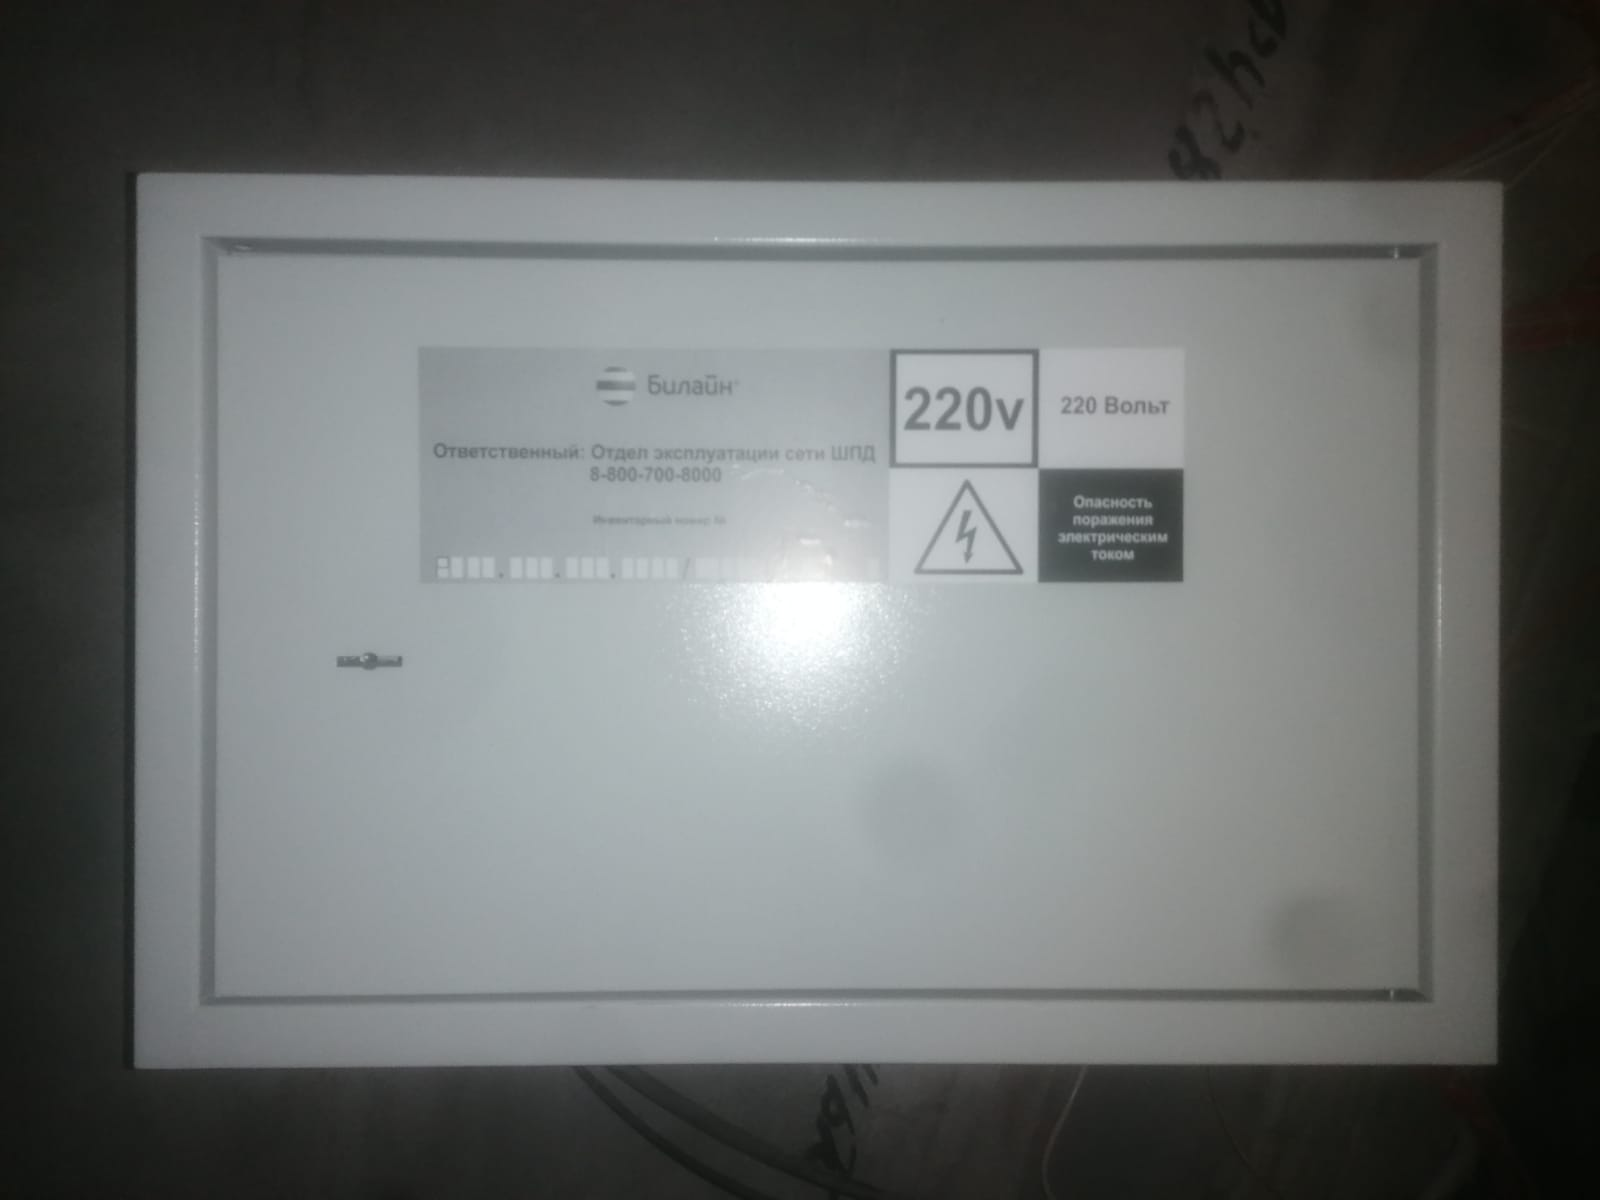shta-7m: (123, 168, 1504, 1071)
